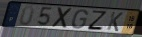0: (18, 5, 36, 27)
5: (36, 7, 54, 28)
G: (70, 9, 89, 30)
K: (105, 11, 124, 33)
X: (51, 7, 74, 30)
Z: (86, 10, 109, 32)
